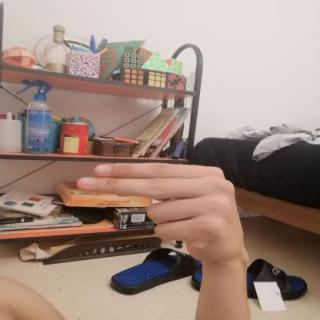AYN: (65, 155, 259, 274)
